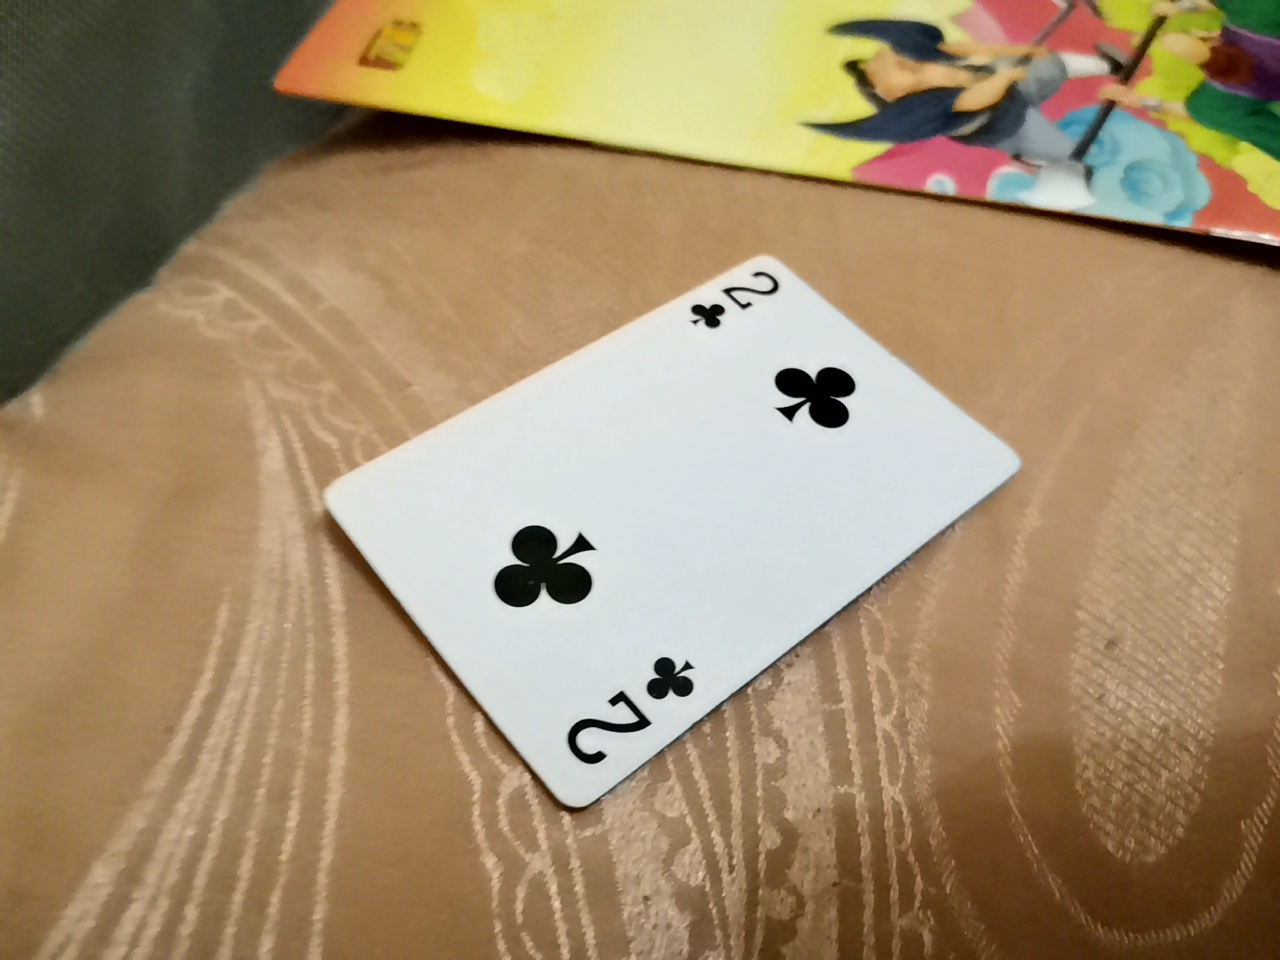mh 2: (257, 203, 1005, 802)
